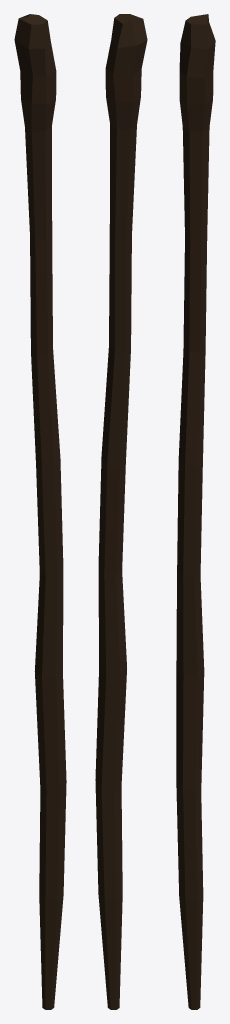
File: Wizard Staff.fbx
3 views of the same model, side by side, from view 1: azimuth 30°, elevation 25°; view 2: azimuth 210°, elevation 25°; view 3: azimuth 270°, elevation 25° (orthographic).
Visible parts, largest first — view 1: Staff; view 2: Staff; view 3: Staff.
Boxes of the visible parts, left/top/right/bottom form: Staff: left=14, top=14, right=66, bottom=1009; Staff: left=95, top=14, right=147, bottom=1009; Staff: left=176, top=14, right=215, bottom=1009.
Size of the model in its own units: 7.54 by 186 by 6.72.
